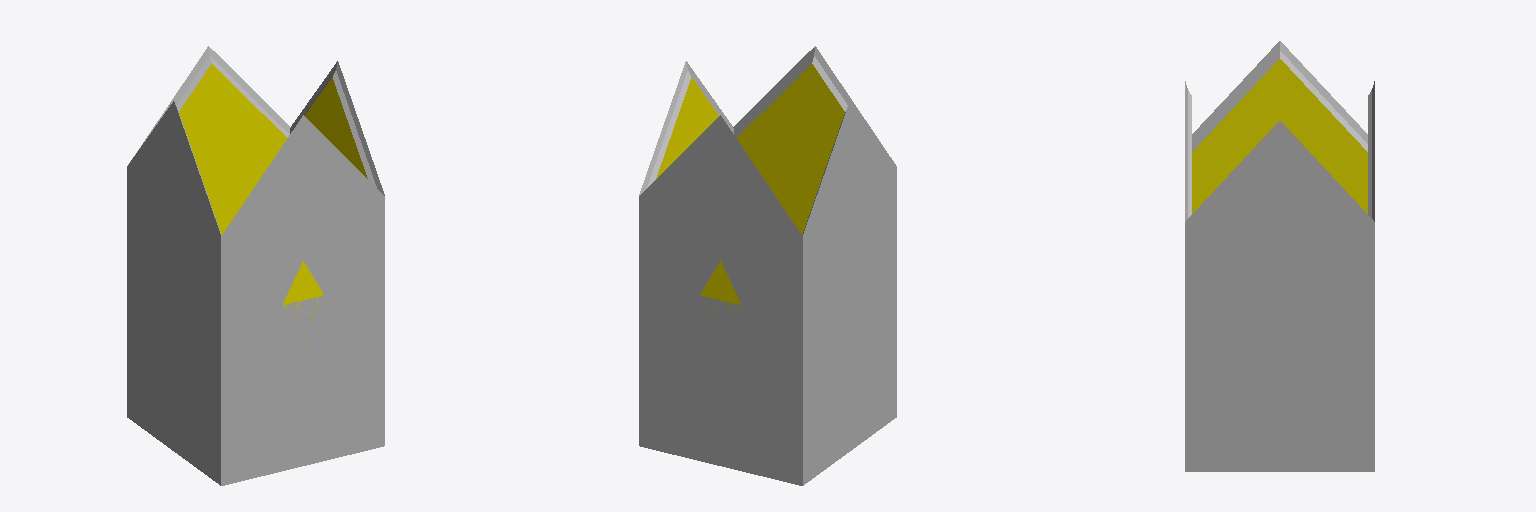
Rendered from kingR.obj.
3 views of the same model, side by side, from view 1: azimuth 30°, elevation 25°; view 2: azimuth 150°, elevation 25°; view 3: azimuth 270°, elevation 25° (orthographic).
Visible parts, largest first — view 1: kingY_Куб.032; view 2: kingY_Куб.032; view 3: kingY_Куб.032.
Boxes of the visible parts, box(x1,y1,x2,y2) form: kingY_Куб.032: box(127, 46, 384, 485); kingY_Куб.032: box(639, 46, 896, 485); kingY_Куб.032: box(1185, 41, 1374, 471).
Size of the model in its own units: 0.0978 by 0.2002 by 0.0978.